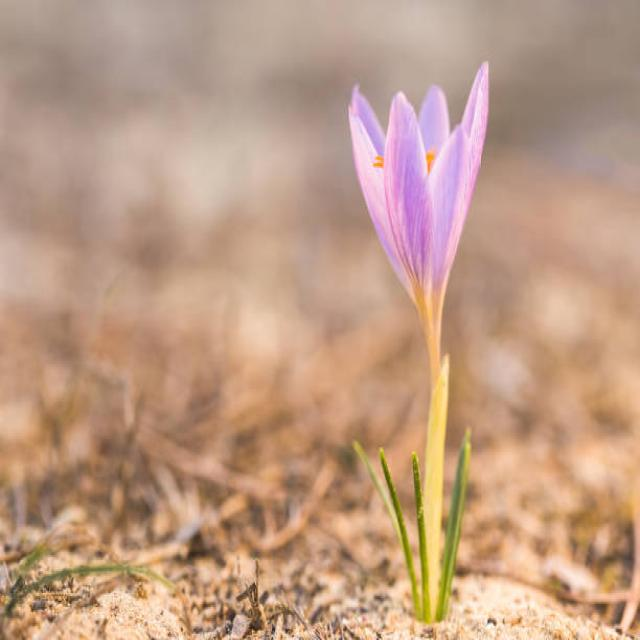saffron open: (349, 65, 489, 377)
